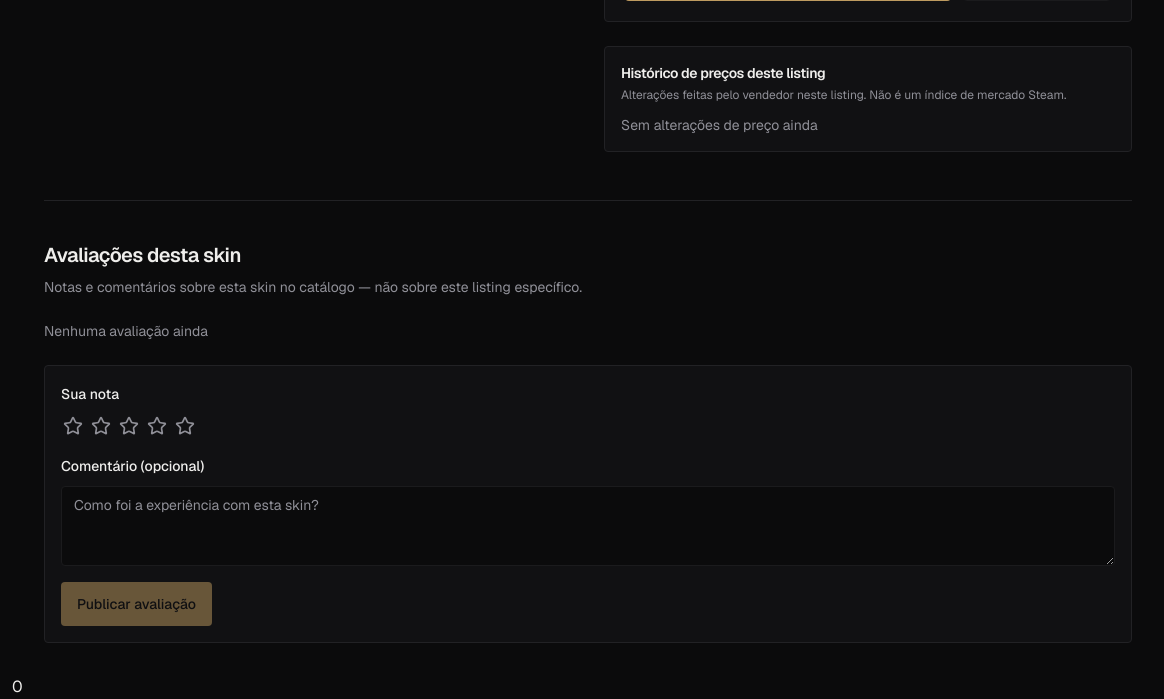
it: ListingDetail › lets a CUSTOMER create a review and then switch to edit after success
(page scrolled)
Expected: the text "Nenhuma avaliação ainda" is shown, [44,322,208,340]
Expected: the button "Publicar avaliação" is disabled, [61,582,212,626]
Click the radio button named "4 estrelas". click: [157, 426]
box: [145,414,169,438]
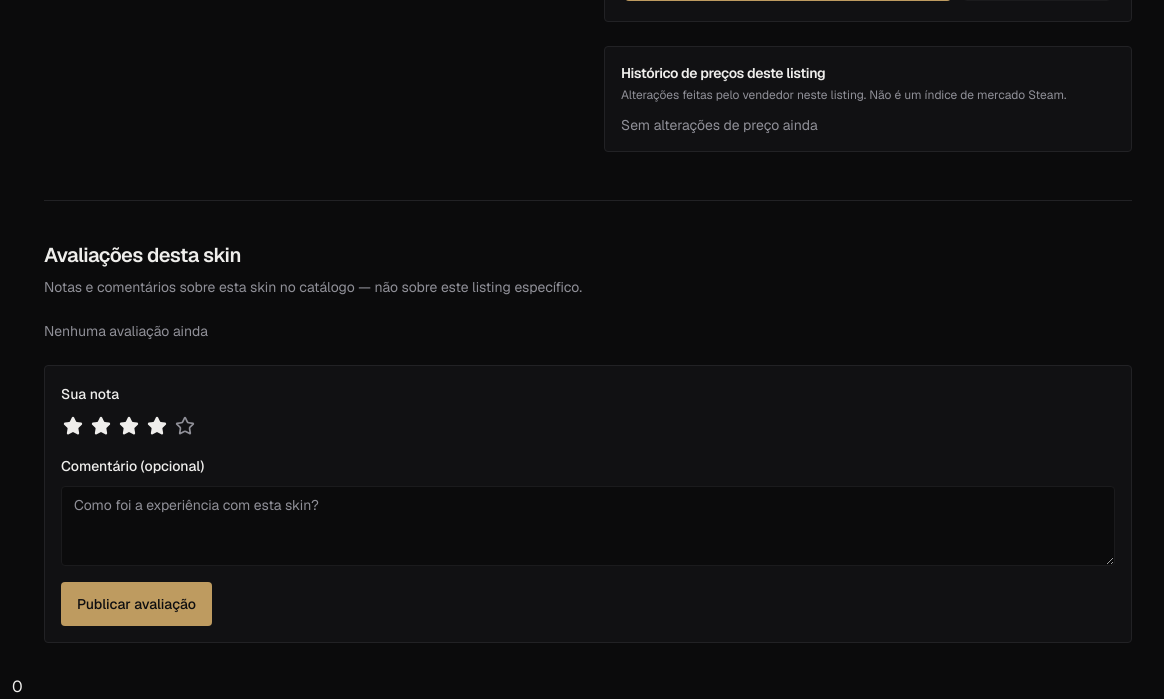
Type "Float honesto, entrega rápida." into the text box labelled "Comentário (opcional)". click: [588, 526]
box: [61,486,1115,566]
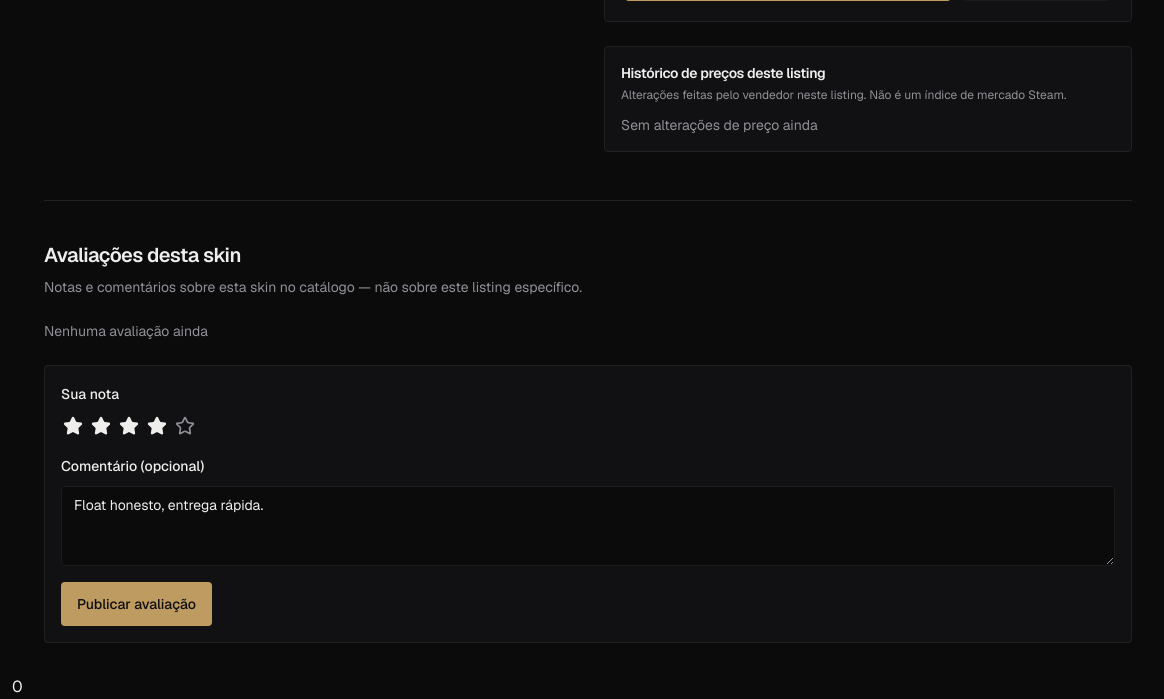
Click the button "Publicar avaliação". click: [137, 604]
box: [61,582,212,626]
(page scrolled)
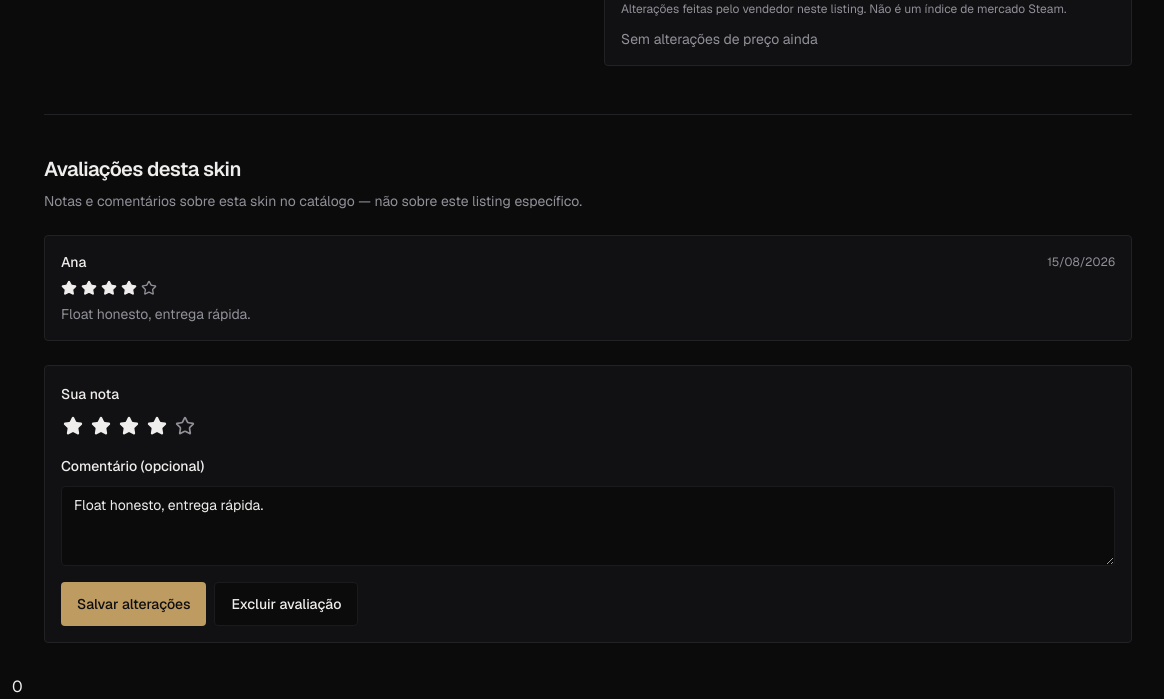
Expected: the button "Excluir avaliação" is shown, [214,582,358,626]
Expected: the button "Publicar avaliação" is gone
